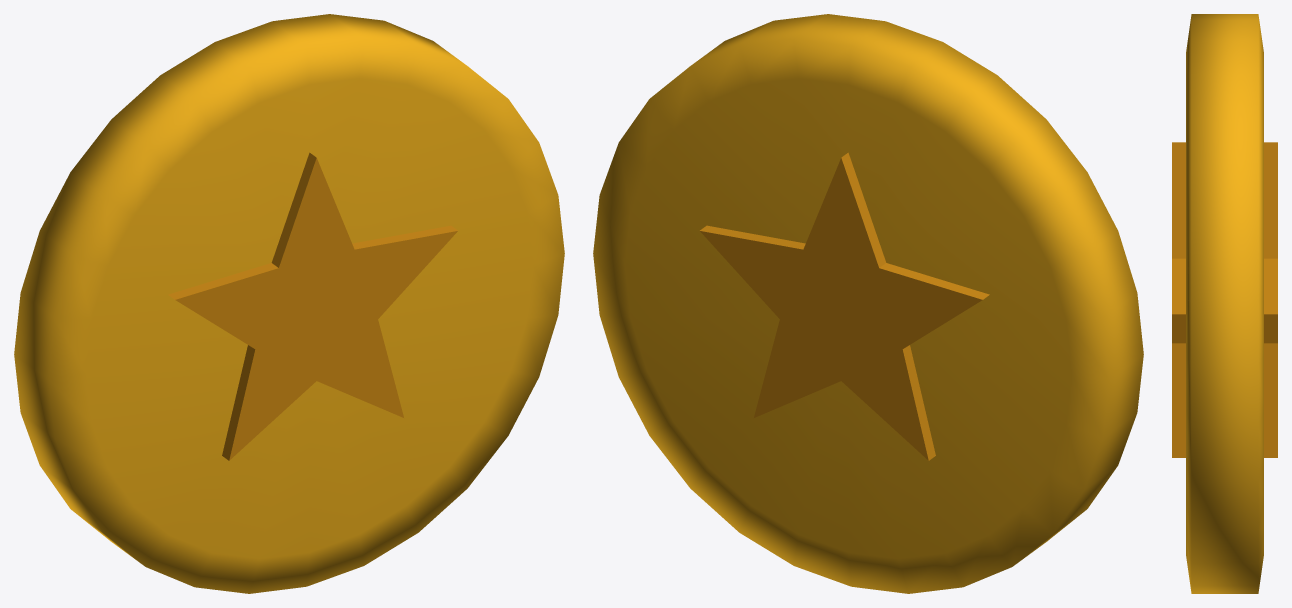
Rendered from hand_coin.glb.
3 views of the same model, side by side, from view 1: azimuth 30°, elevation 25°; view 2: azimuth 150°, elevation 25°; view 3: azimuth 270°, elevation 25° (orthographic). The views are drawn at different scales.
Parts seen in each view (by area): view 1: hand_coin_q; view 2: hand_coin_q; view 3: hand_coin_q.
Part boxes in pixels (bbox=[...]): hand_coin_q: bbox=[14, 14, 564, 593]; hand_coin_q: bbox=[593, 14, 1143, 593]; hand_coin_q: bbox=[1172, 14, 1277, 593].
Size of the model in its own units: 1.04 by 1.04 by 0.19.
